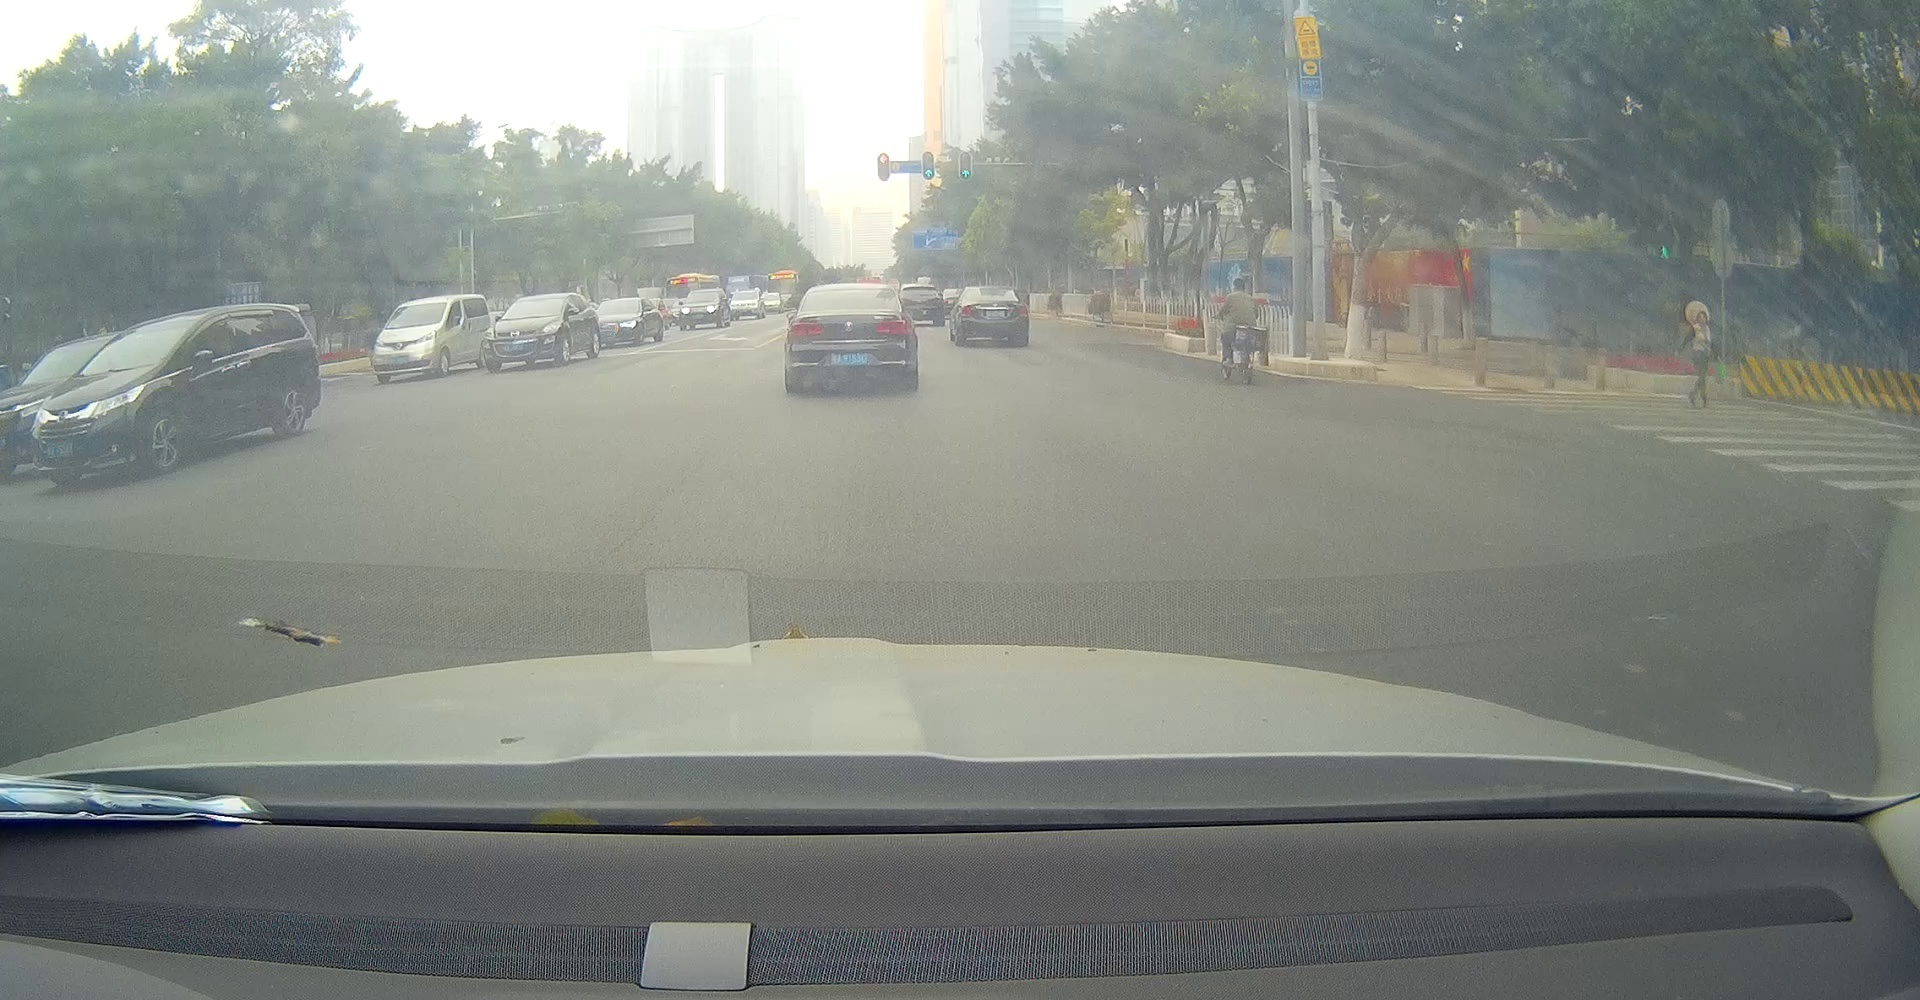L_light: (789, 322, 825, 335), (960, 305, 977, 317)
R_light: (874, 319, 910, 332), (1007, 305, 1027, 315)
T_light: (846, 288, 863, 292), (987, 287, 998, 289)
day-no: (785, 283, 918, 393), (957, 286, 1029, 346)
